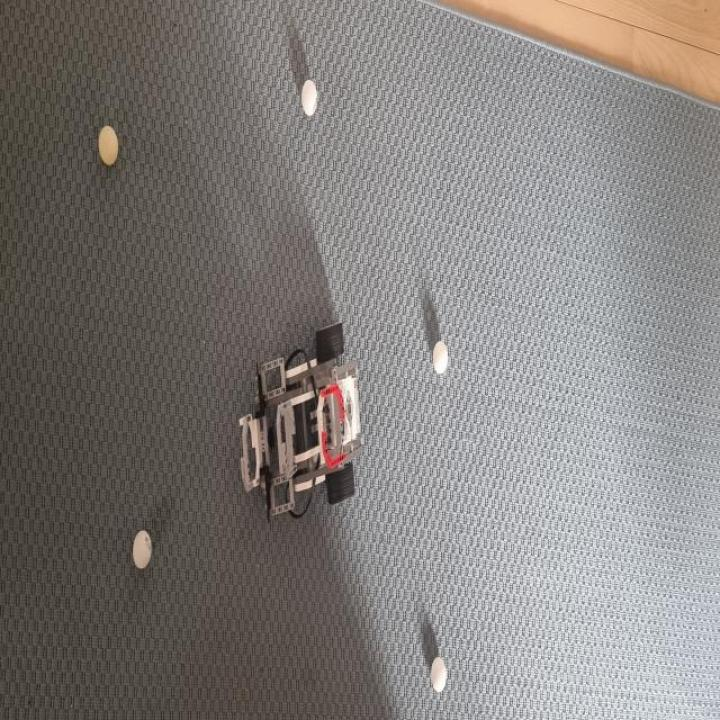robot: (239, 320, 364, 525)
white: (97, 125, 119, 166), (132, 530, 152, 570), (301, 79, 318, 117), (431, 656, 447, 692), (433, 340, 448, 376)
